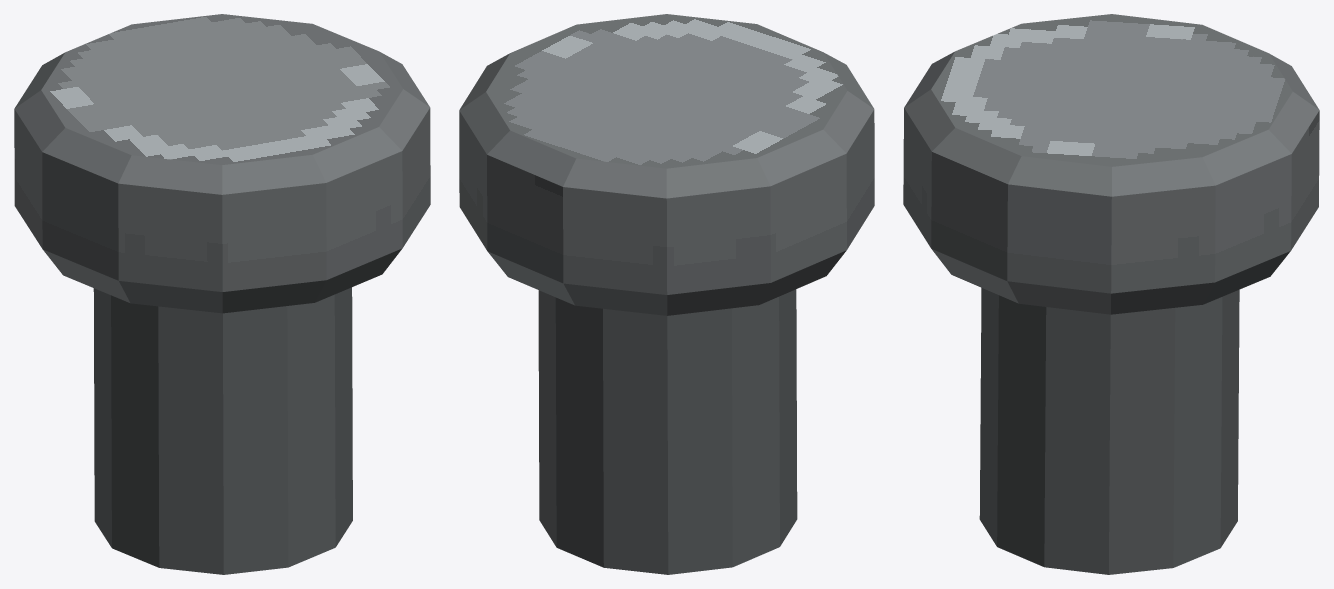
The model's file is pillar_01.fbx.
The picture shows the model from 3 angles, left to right: view 1: azimuth 30°, elevation 25°; view 2: azimuth 150°, elevation 25°; view 3: azimuth 270°, elevation 25°; orthographic projection.
Parts seen in each view (by area): view 1: pillar_01; view 2: pillar_01; view 3: pillar_01.
Part boxes in pixels (x1,y1,x2,y2): pillar_01: (14, 14, 430, 574); pillar_01: (459, 14, 874, 574); pillar_01: (903, 14, 1319, 574).
Bounding box in the file's own units: 2.37 × 2.71 × 2.37.
1 material, 1 textured.
